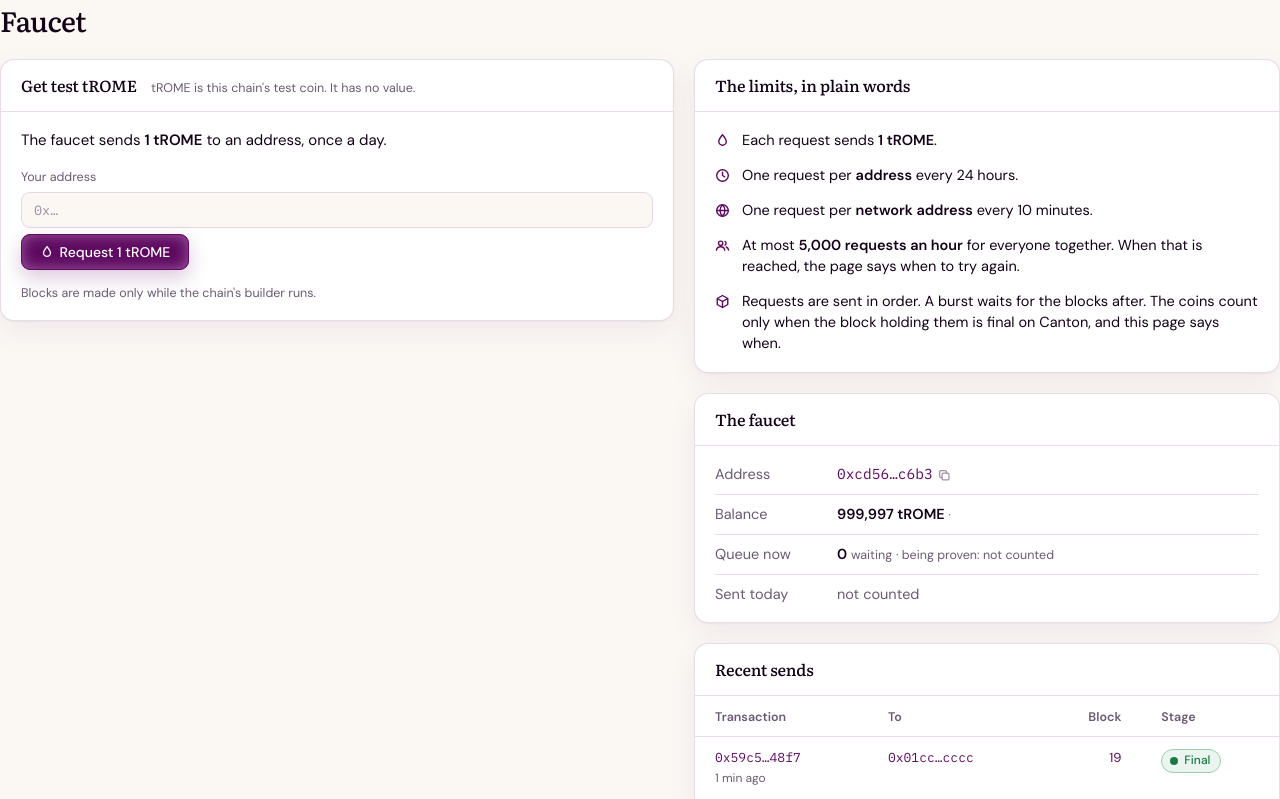
Test: recent sends › does not list the same transaction twice
This screenshot has width=1280, height=799.
Type "0x5a04de5c5ebd085f5e3b3ec791ab5cdc8e2b56f0" into the field labelled "Your address" at (337, 210), box [21,192,653,228]
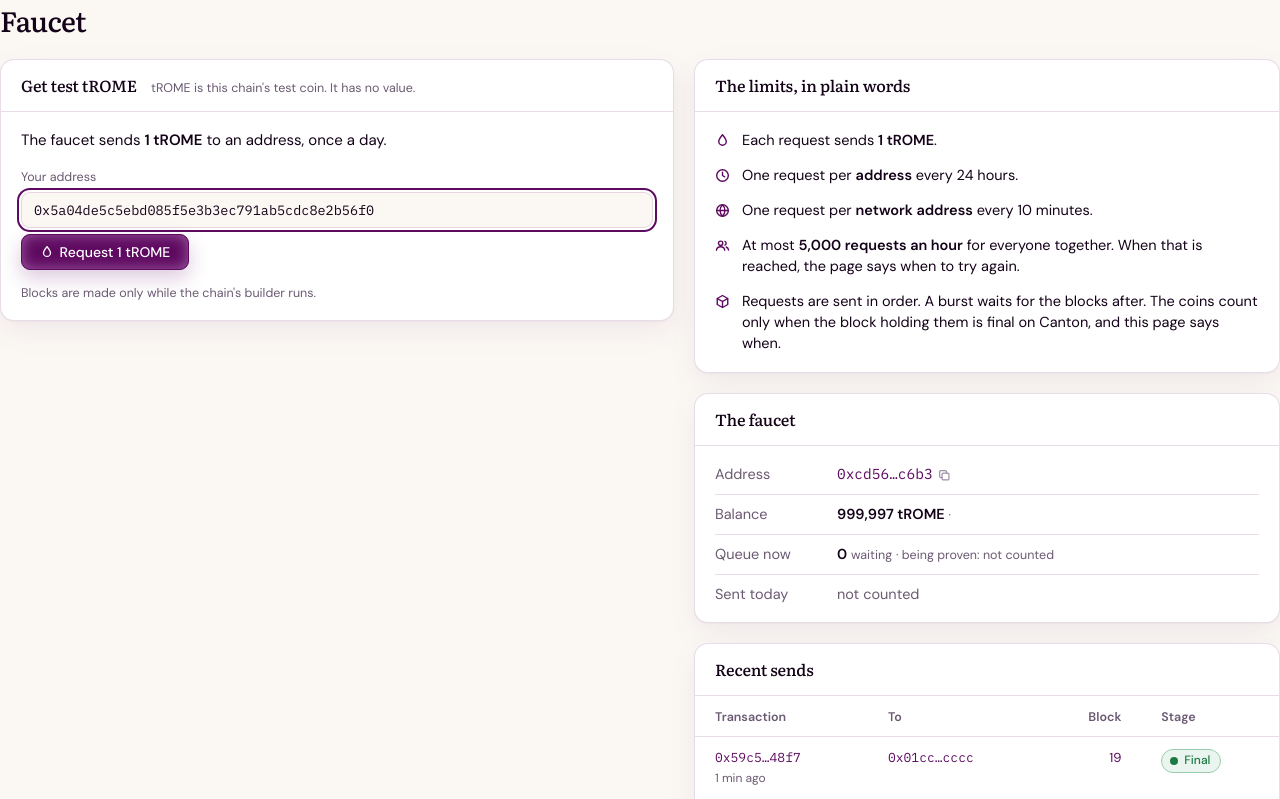
Click the button "Request 1 tROME" at (105, 252), box [21,234,189,270]
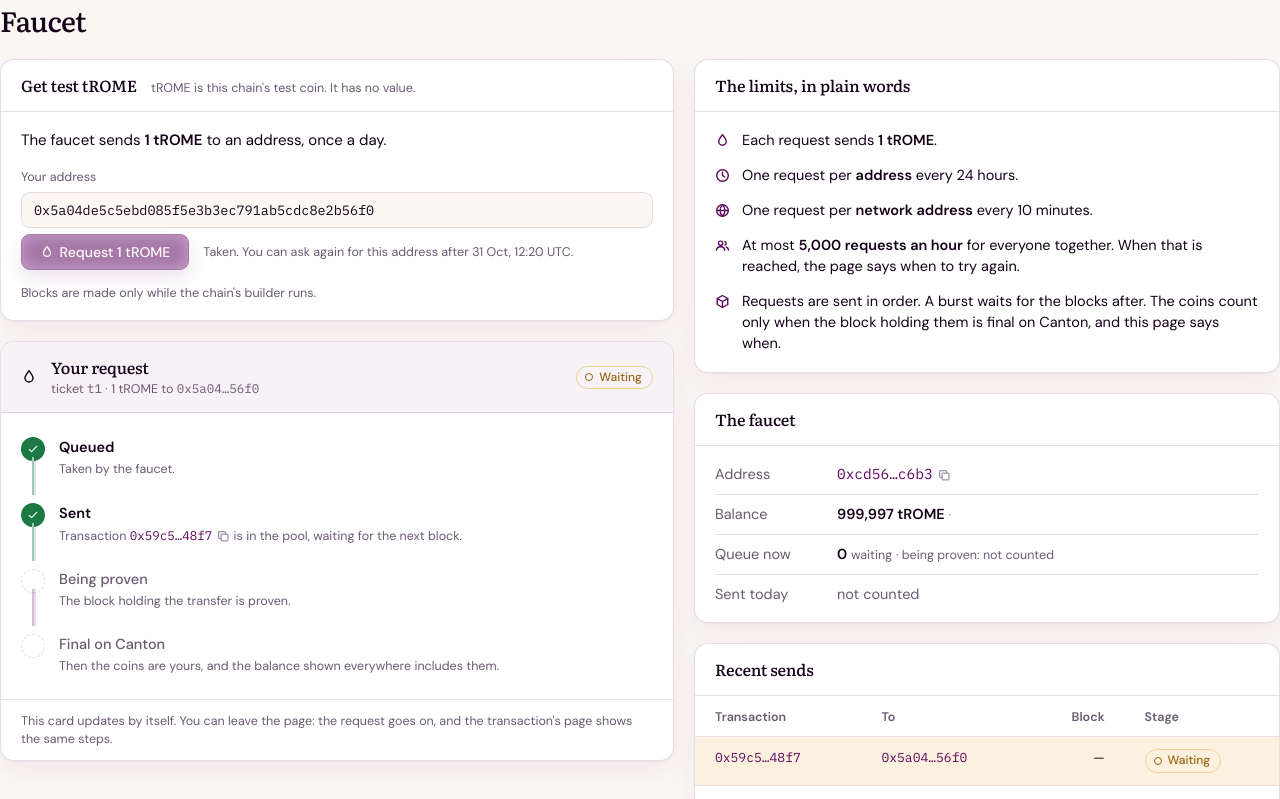
Check: the number of rows is 2, box [695,696,1279,737]; [695,737,1279,785]
